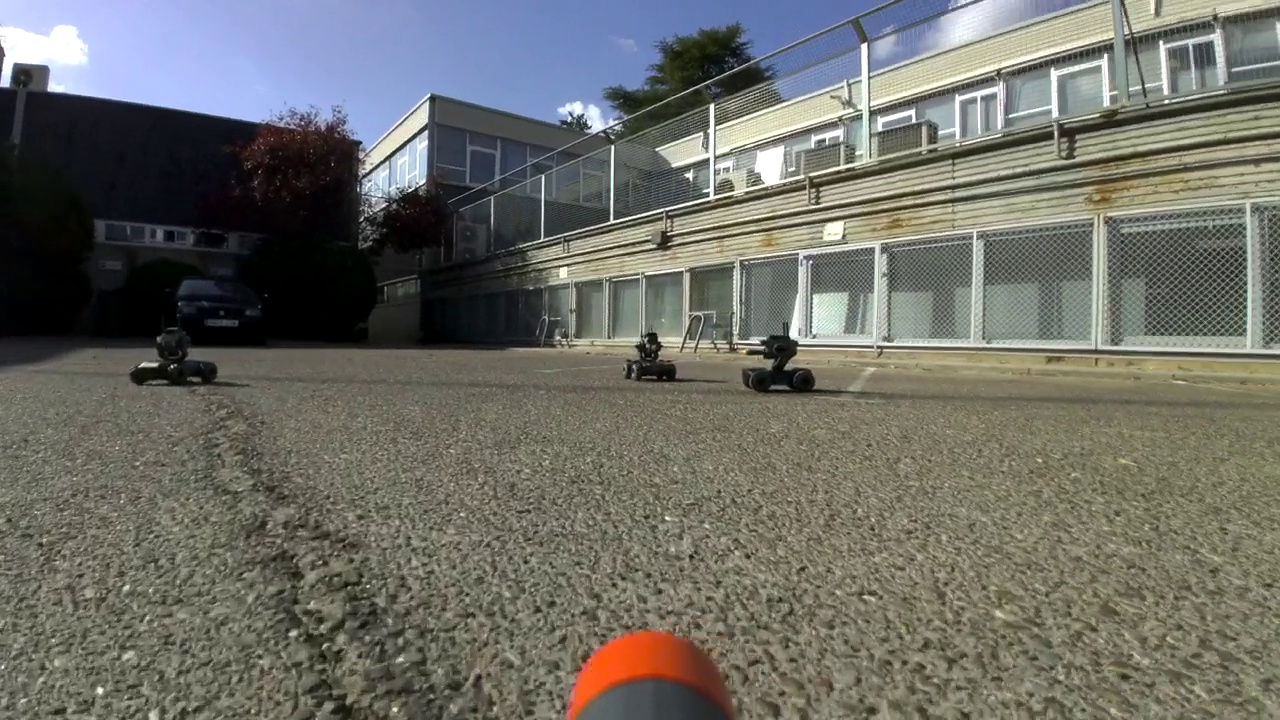robot: (129, 310, 218, 384), (740, 320, 817, 393), (622, 322, 678, 384)
